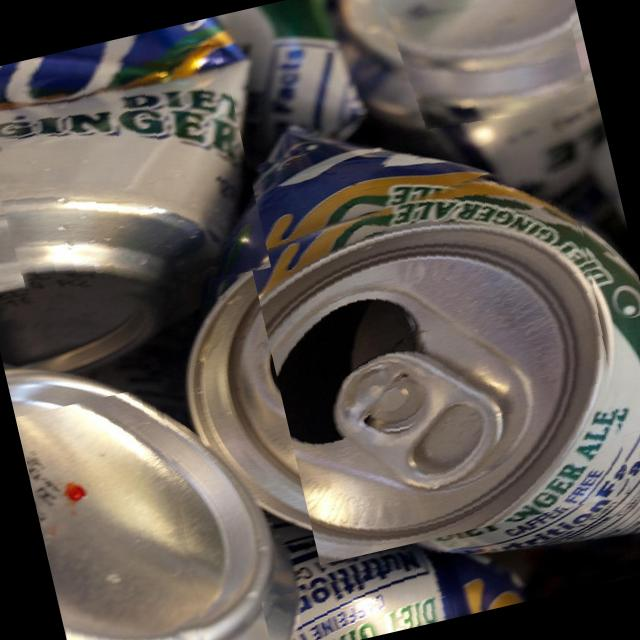Cans: (239, 146, 640, 564), (0, 16, 270, 325), (15, 384, 223, 640), (372, 0, 588, 145), (257, 544, 462, 640)
